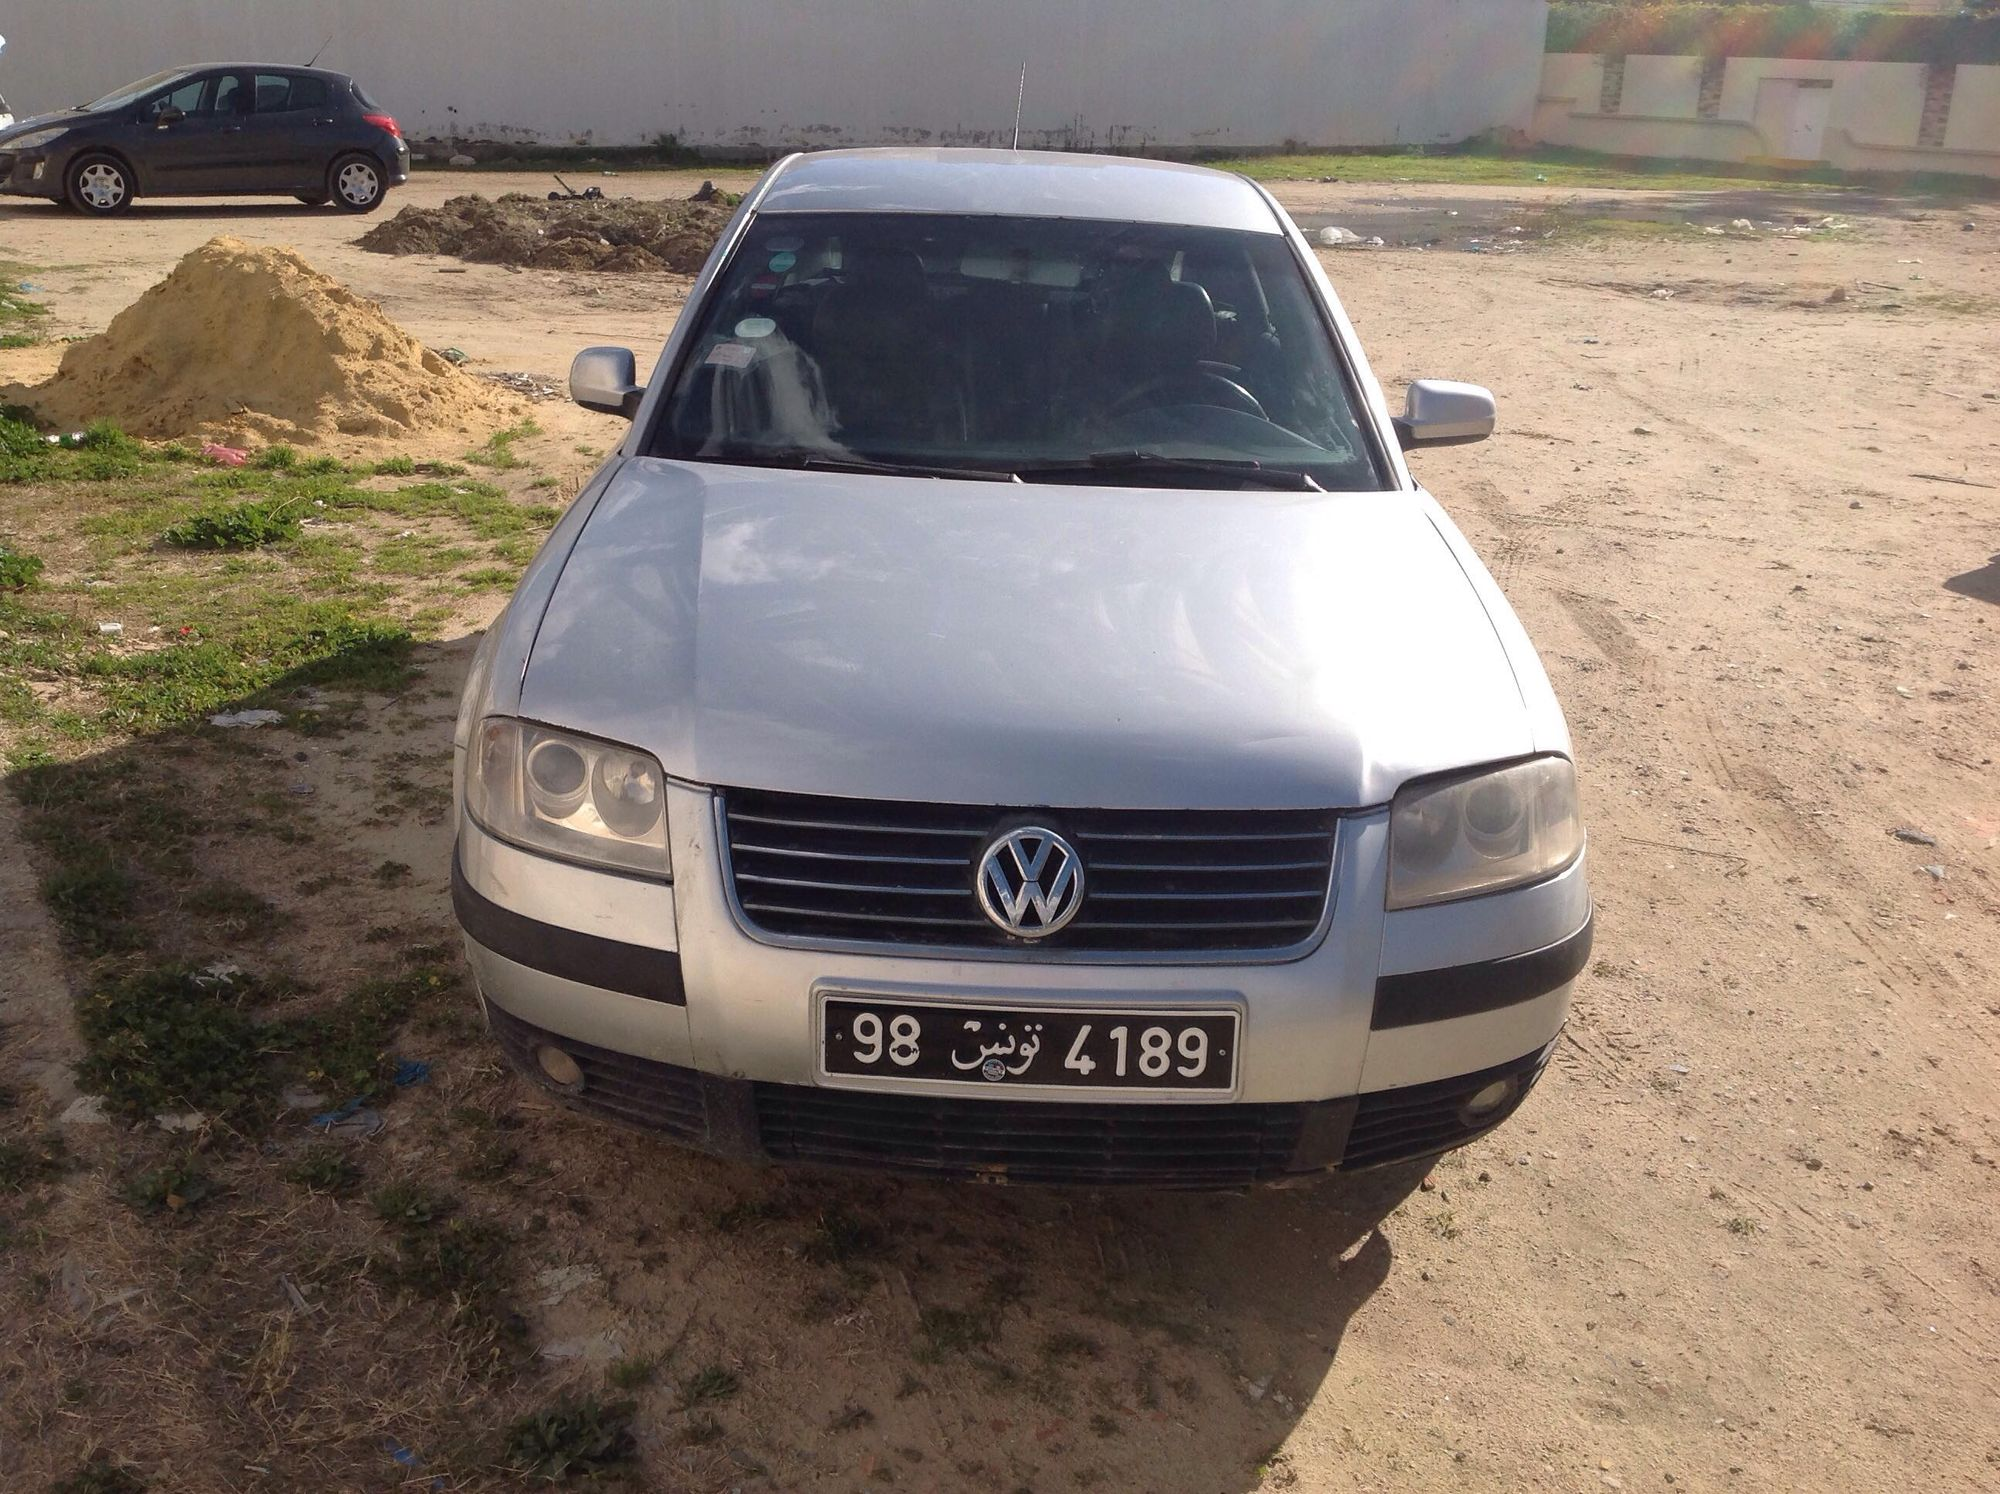LP: (818, 992, 1240, 1098)
